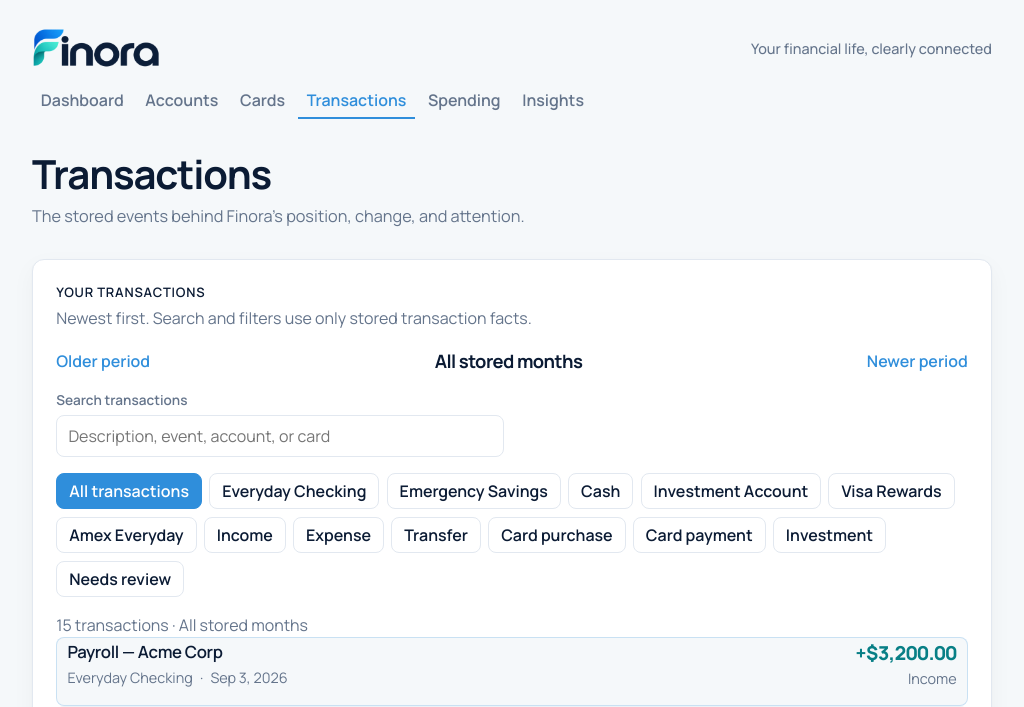
it: Finora transaction search and periods › searches stored description, event, and account context
Step 1. Type "metro" into the search field labelled "Search transactions" → (280, 436), box [56,415,504,457]
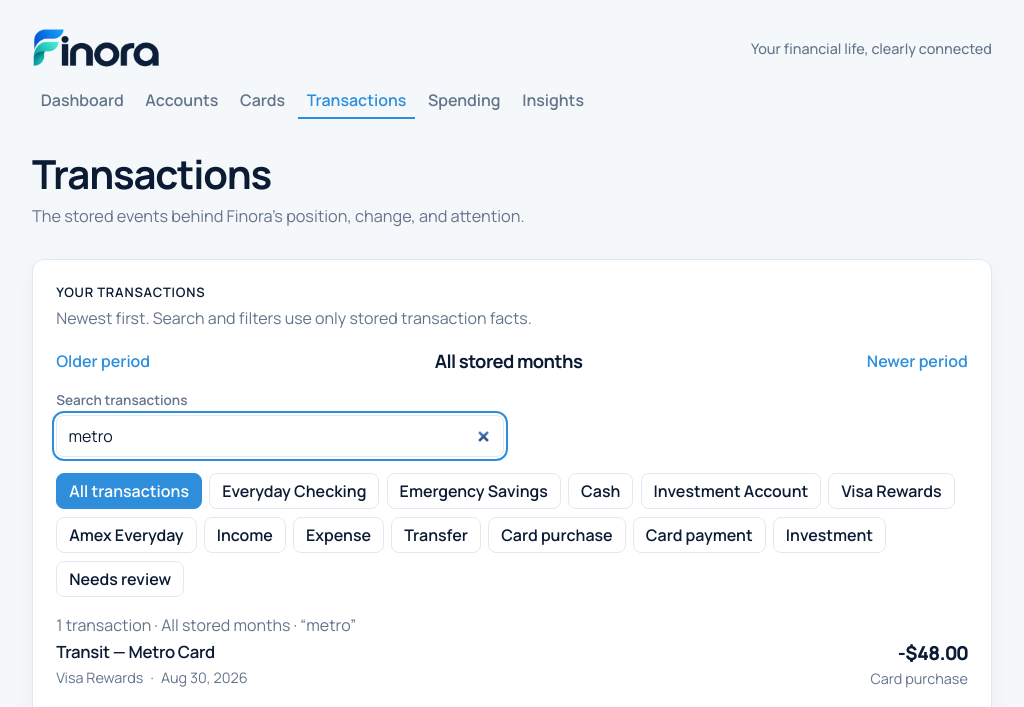
Expected: the text "Transit — Metro Card" is shown, [56,640,215,663]
Expected: the button "Payroll — Acme Corp" is gone
Expected: the text "1 transaction · All stored months · “metro”" is shown, [56,614,356,636]
